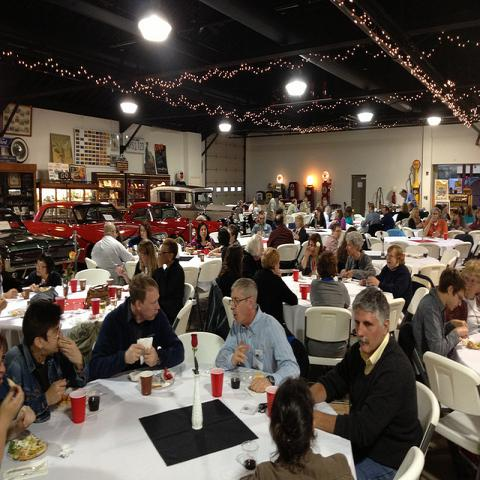car: (73, 201, 168, 263), (0, 208, 75, 282), (123, 202, 224, 243), (150, 184, 244, 222), (12, 200, 74, 236)
